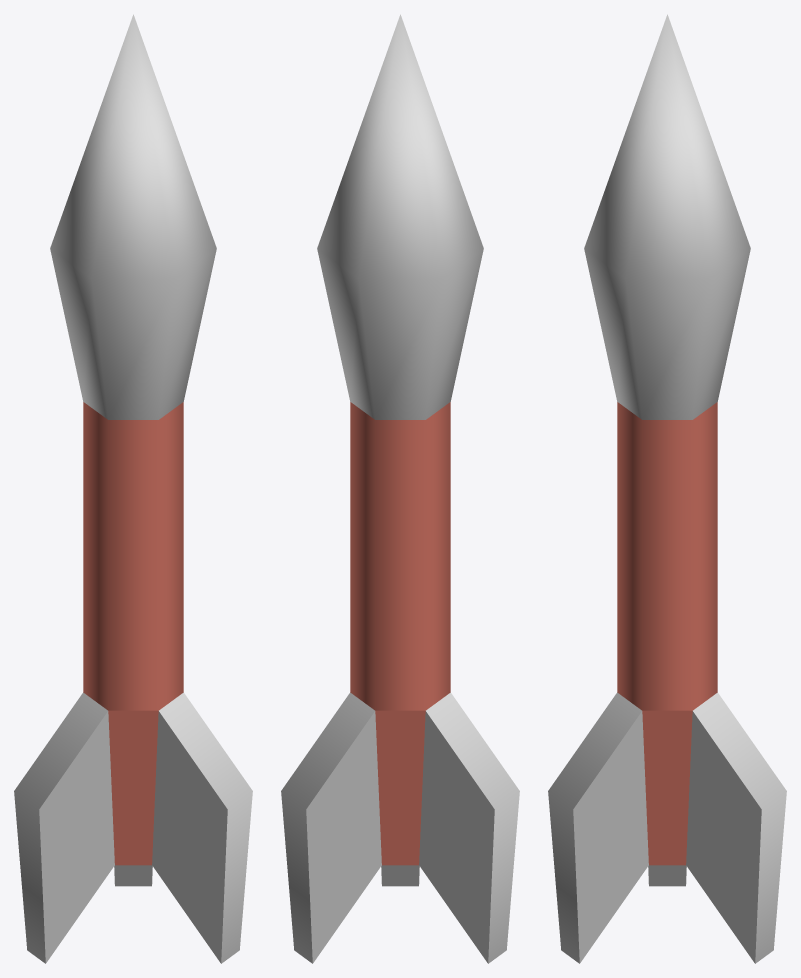
The model's file is rocket_ammo.fbx.
The picture shows the model from 3 angles, left to right: view 1: azimuth 30°, elevation 25°; view 2: azimuth 150°, elevation 25°; view 3: azimuth 270°, elevation 25°; orthographic projection.
Visible parts, largest first — view 1: Rocket_ammo; view 2: Rocket_ammo; view 3: Rocket_ammo.
Boxes of the visible parts, left/top/right/bottom form: Rocket_ammo: left=14, top=14, right=252, bottom=963; Rocket_ammo: left=281, top=14, right=519, bottom=963; Rocket_ammo: left=548, top=14, right=786, bottom=963.
Size of the model in its own units: 52.17 by 256 by 60.24.
